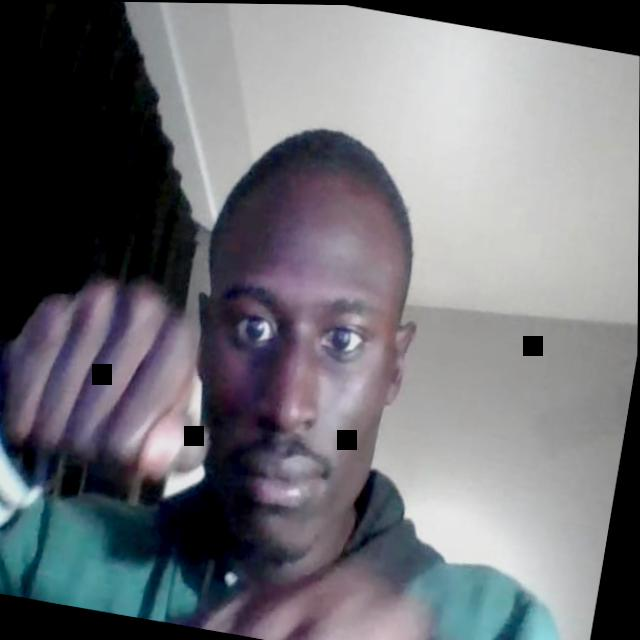NO-Mask: (169, 229, 409, 581)
